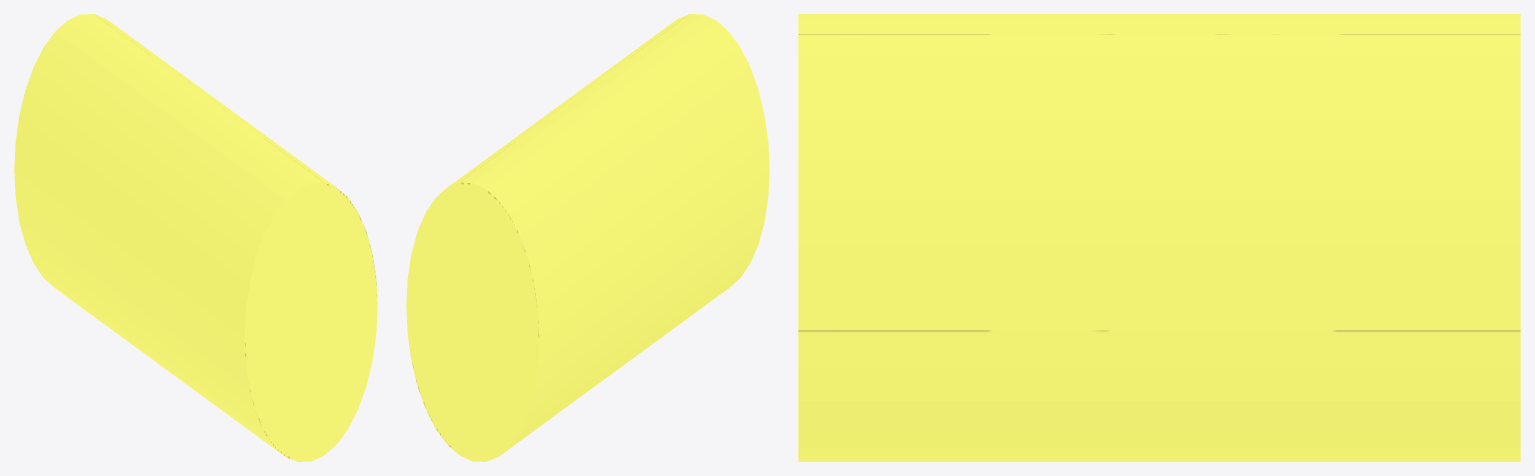
File: TunnelLight.gltf
The picture shows the model from 3 angles, left to right: view 1: azimuth 30°, elevation 25°; view 2: azimuth 150°, elevation 25°; view 3: azimuth 270°, elevation 25°; orthographic projection. The views are drawn at different scales.
Parts seen in each view (by area): view 1: TunnelLight; view 2: TunnelLight; view 3: TunnelLight.
Boxes of the visible parts, x1,y1,x2,y2 form: TunnelLight: (14,14,377,461); TunnelLight: (406,14,769,461); TunnelLight: (798,14,1520,461).
Bounding box in the file's own units: 0.1 × 0.2 × 0.3.
1 material, 1 textured.
